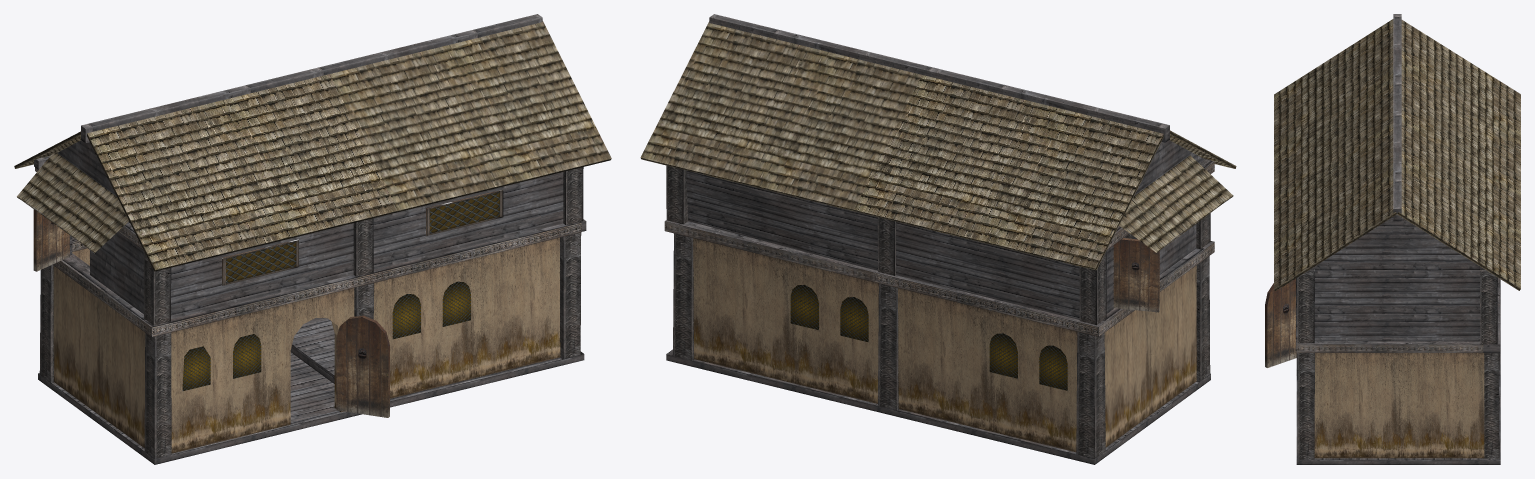
File: v3_house6_LOD2.dae
3 renders of one model, left to right at view 1: azimuth 30°, elevation 25°; view 2: azimuth 150°, elevation 25°; view 3: azimuth 270°, elevation 25°, orthographic. The views are drawn at different scales.
Parts seen in each view (by area): view 1: roof_01, bricks_old_03, WoodPlanks, WoodPlanks_ornaments, windows2_c, dorwindow_set; view 2: roof_01, bricks_old_03, WoodPlanks, WoodPlanks_ornaments, windows2_c, dorwindow_set; view 3: roof_01, WoodPlanks, bricks_old_03, WoodPlanks_ornaments, dorwindow_set.
Boxes of the visible parts, x1,y1,x2,y2 form: roof_01: (14,21,611,271); bricks_old_03: (53,237,560,453); WoodPlanks: (17,14,584,464); WoodPlanks_ornaments: (35,167,586,458); windows2_c: (182,190,503,390); dorwindow_set: (33,189,502,417); roof_01: (640,21,1236,270); bricks_old_03: (693,238,1196,452); WoodPlanks: (666,14,1233,464); WoodPlanks_ornaments: (664,158,1214,458); windows2_c: (790,285,1067,390); dorwindow_set: (1113,238,1159,312); roof_01: (1274,19,1520,291); WoodPlanks: (1296,14,1500,464); bricks_old_03: (1314,353,1484,458); WoodPlanks_ornaments: (1296,269,1500,459); dorwindow_set: (1265,278,1296,367).
Bounding box in the file's own units: 9.68 × 5.7 × 5.05.
